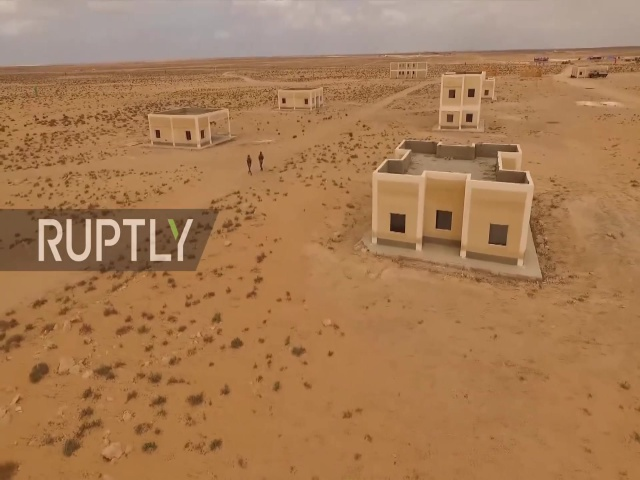person: (245, 152, 254, 177), (258, 150, 265, 173)
